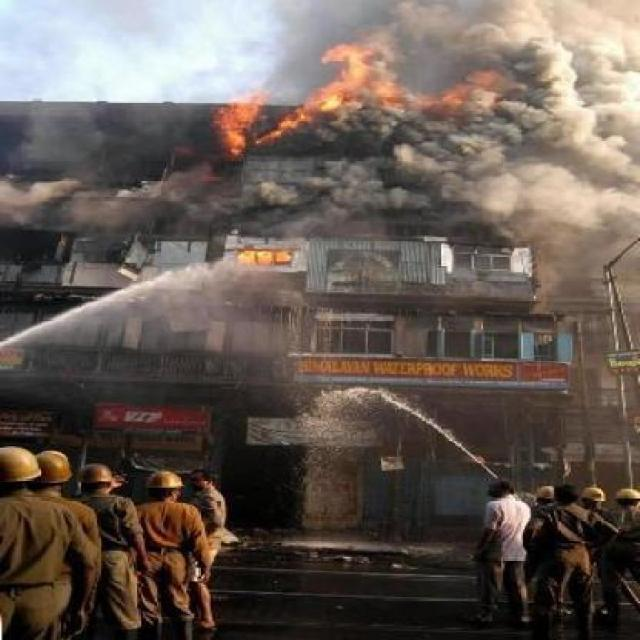Smoke: (402, 42, 640, 245)
